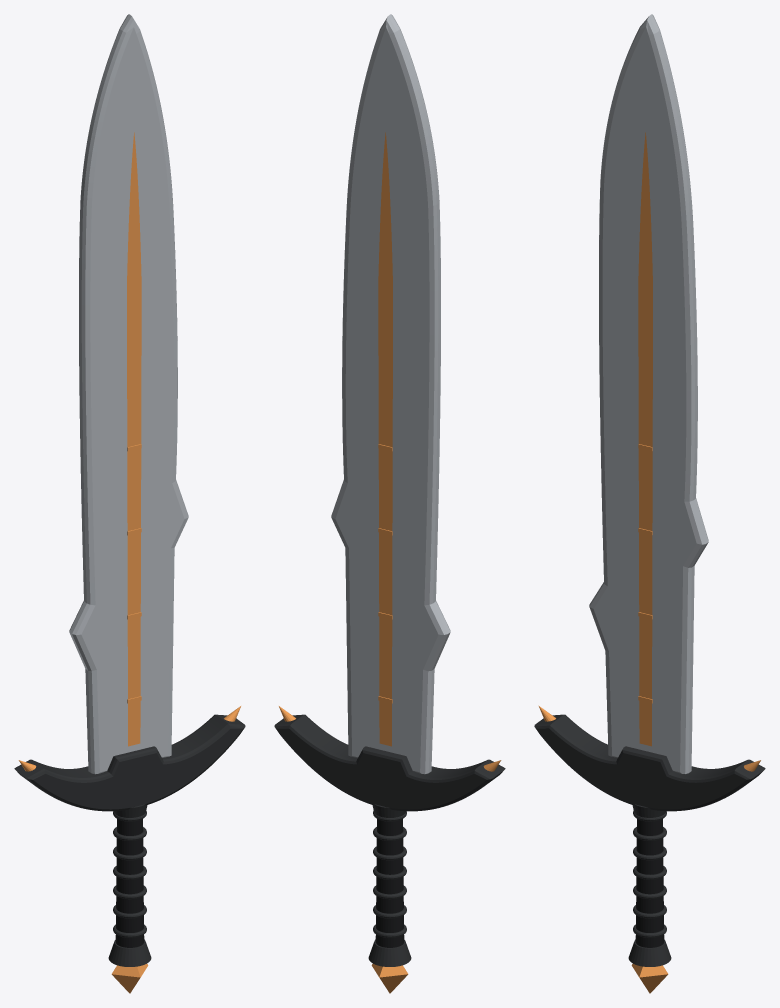
The model's file is Emberfang.ready.glb.
3 views of the same model, side by side, from view 1: azimuth 30°, elevation 25°; view 2: azimuth 150°, elevation 25°; view 3: azimuth 330°, elevation 25° (orthographic).
Visible parts, largest first — view 1: SlayerSword; view 2: SlayerSword; view 3: SlayerSword.
Boxes of the visible parts, x1,y1,x2,y2 form: SlayerSword: (14, 14, 245, 993); SlayerSword: (274, 14, 505, 993); SlayerSword: (534, 14, 765, 993).
Size of the model in its own units: 0.3611 by 1.51 by 0.06.
Materials: 1 (1 with a texture image).
